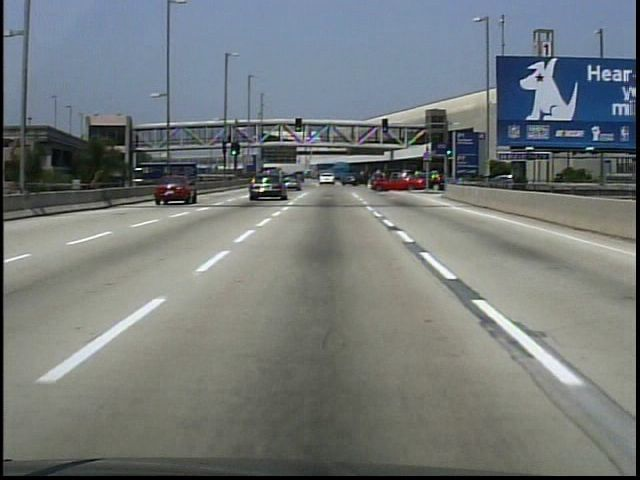person: (227, 133, 233, 145)
